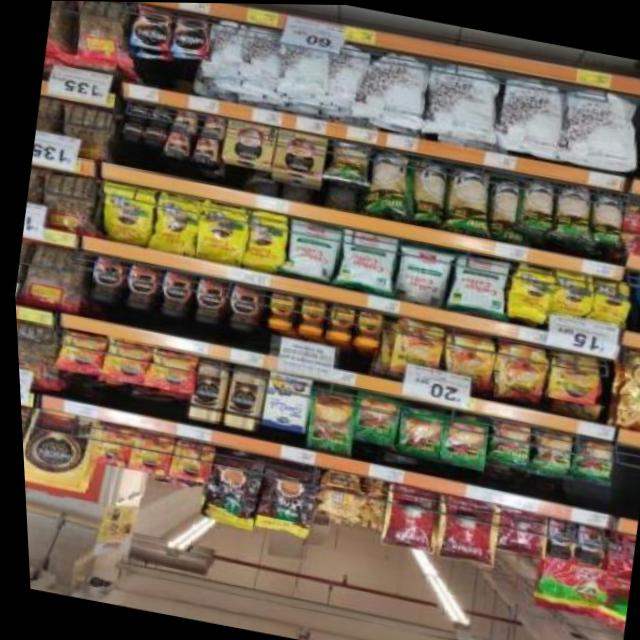Coffee: (486, 337, 548, 403), (436, 328, 495, 392), (385, 316, 445, 378), (215, 361, 265, 430), (540, 349, 598, 404), (180, 354, 226, 423), (53, 328, 105, 376), (219, 280, 264, 332), (129, 2, 175, 51), (117, 260, 160, 312), (99, 341, 149, 385), (184, 274, 226, 325), (152, 268, 193, 319), (144, 349, 191, 393), (84, 254, 125, 304), (169, 12, 211, 56), (347, 307, 385, 348), (259, 289, 297, 330), (536, 515, 572, 558), (290, 296, 328, 336), (566, 523, 602, 565), (320, 302, 356, 341), (139, 123, 165, 147), (118, 120, 144, 142), (146, 104, 172, 126), (122, 101, 147, 123)
